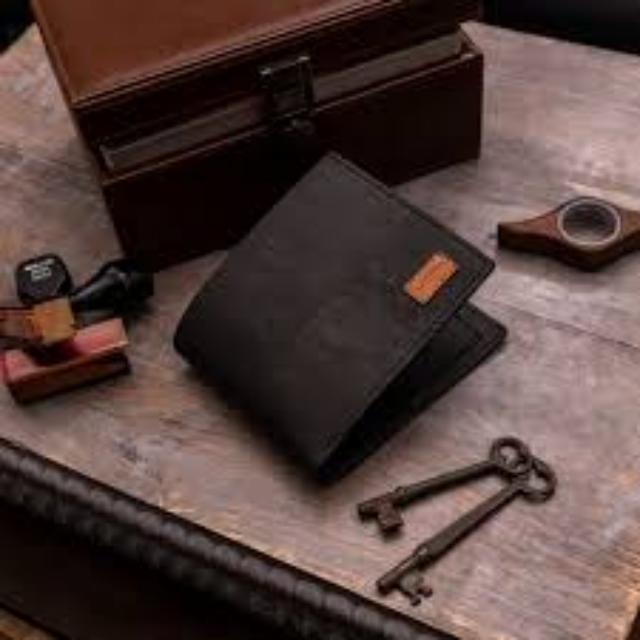wallet: (182, 146, 532, 482)
